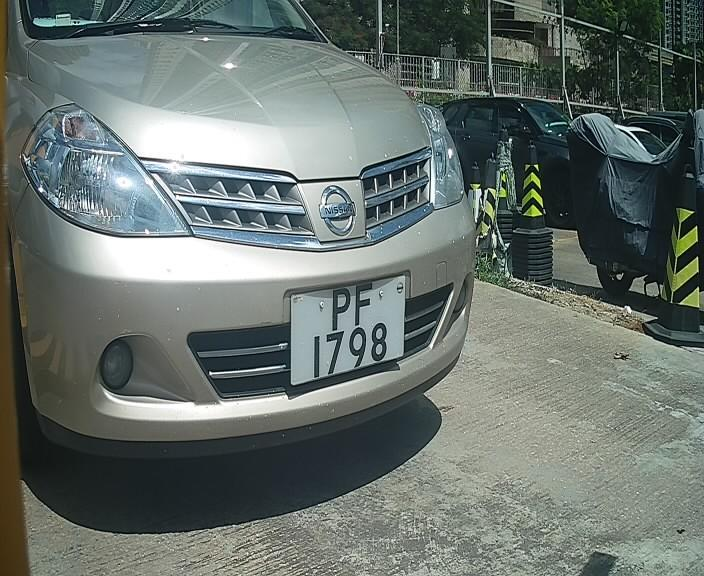License Plate: (290, 271, 406, 391)
